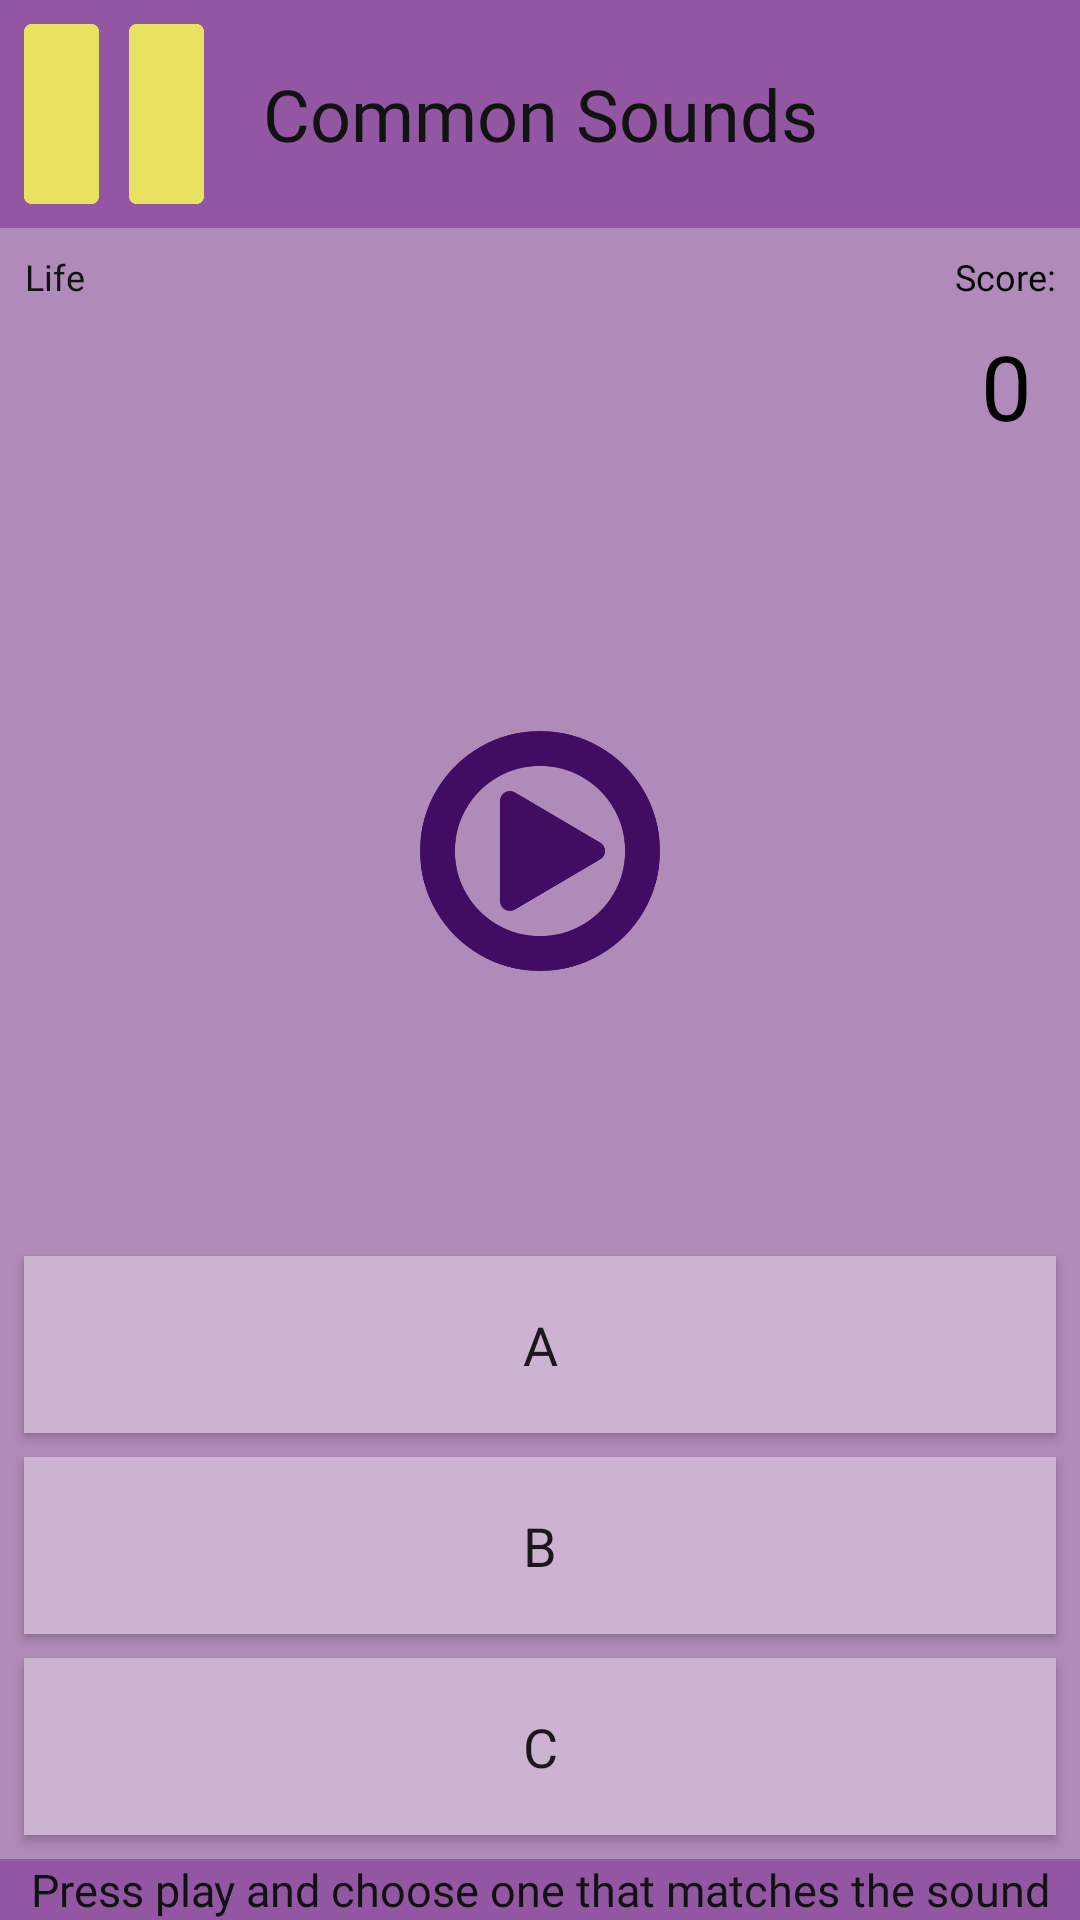

Named icons in this screenshot (1080 x 1920) and their centers, (x=x, y=y):
pause: (x=114, y=114)
play: (x=540, y=851)
